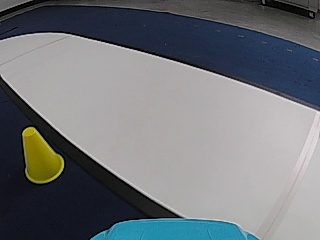cone: (20, 127, 64, 184)
